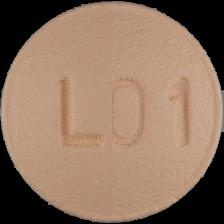68180-482: (0, 0, 224, 224)
